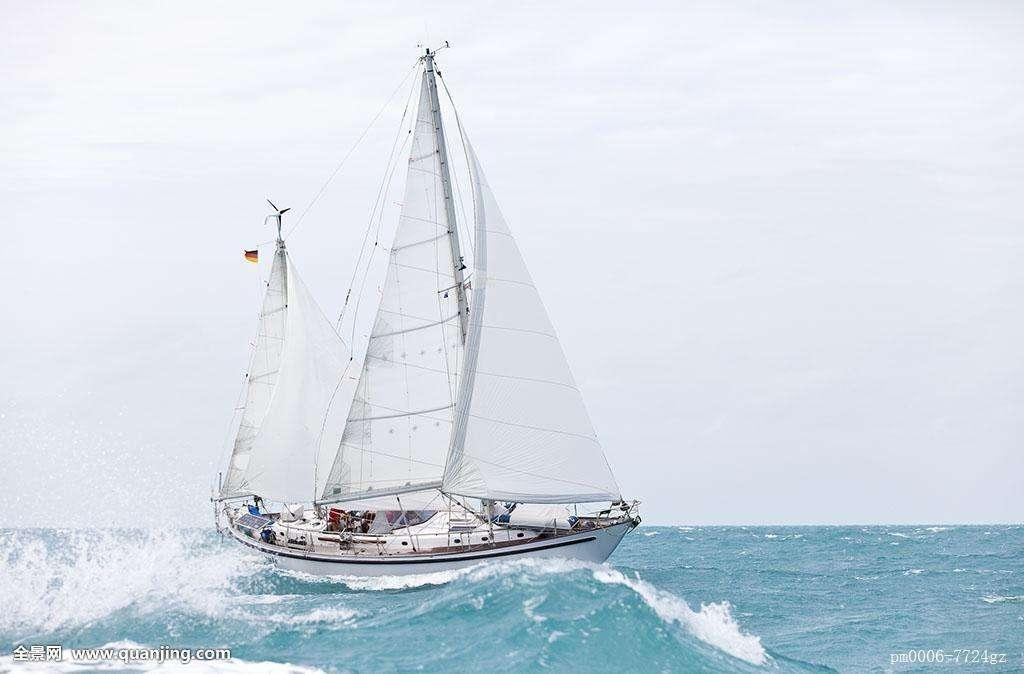fanchuan: (207, 27, 641, 577)
